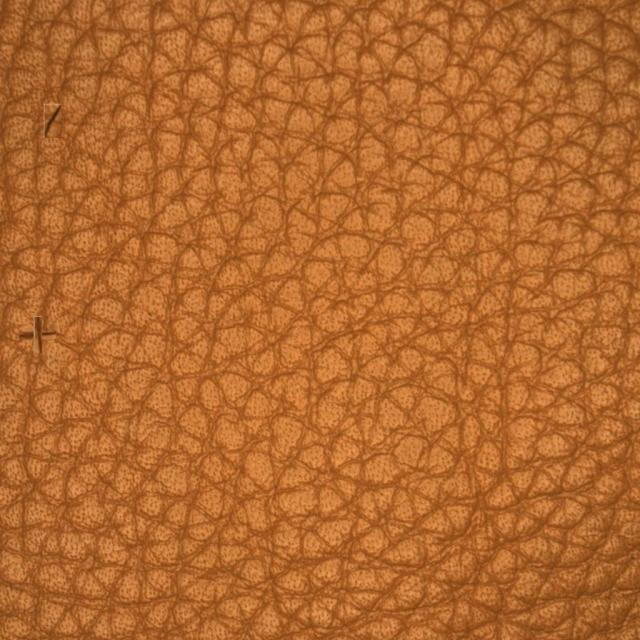Scratch: (10, 277, 175, 400), (15, 66, 150, 190)
